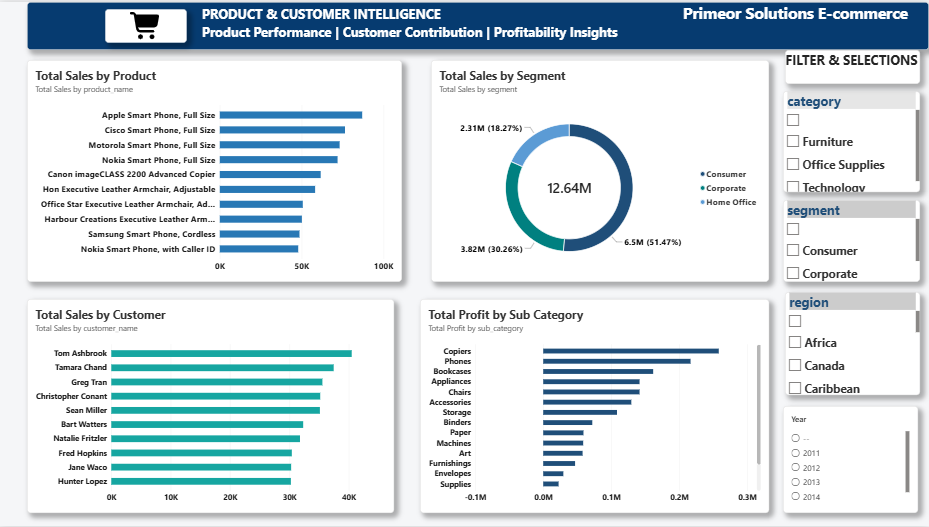

The page's visual inventory and layout, read from the dashboard file:
{"tool":"powerbi","page":{"name":"Product and Customer Insights","canvas":[1920,1080],"ordinal":2},"visuals":[{"type":"clusteredBarChart","title":"Total Sales by Product","fields":{"Category":["Cleaned_Ecommerce_Dataset.product_name"],"Y":["Cleaned_Ecommerce_Dataset.Total Sales"]},"box":[57.8,119.7,774.2,458.3],"z":0},{"type":"clusteredBarChart","title":"Total Sales by Customer","fields":{"Category":["Cleaned_Ecommerce_Dataset.customer_name"],"Y":["Cleaned_Ecommerce_Dataset.Total Sales"]},"box":[57.8,613.2,757.7,441.8],"z":1000},{"type":"clusteredBarChart","title":"Total Profit by Sub Category","fields":{"Category":["Cleaned_Ecommerce_Dataset.sub_category"],"Y":["Cleaned_Ecommerce_Dataset.Total Profit"]},"box":[869.2,613.2,720.5,441.8],"z":2000},{"type":"donutChart","title":"Total Sales by Segment","fields":{"Category":["Cleaned_Ecommerce_Dataset.segment"],"Y":["Cleaned_Ecommerce_Dataset.Total Sales"]},"box":[891.9,119.7,697.8,458.3],"z":3000},{"type":"slicer","fields":{"Values":["Cleaned_Ecommerce_Dataset.category"]},"box":[1618.6,183.7,282.8,208.5],"z":4000},{"type":"slicer","fields":{"Values":["Cleaned_Ecommerce_Dataset.region"]},"box":[1622.7,598.7,278.7,212.6],"z":5000},{"type":"listSlicer","fields":{"Values":["Cleaned_Ecommerce_Dataset.ship_date.Variation.Date Hierarchy.Year"]},"box":[1618.6,834.1,278.7,220.9],"z":6000},{"type":"slicer","fields":{"Values":["Cleaned_Ecommerce_Dataset.segment"]},"box":[1618.6,408.8,282.8,169.3],"z":7000},{"type":"textbox","box":[57.8,0,1862.2,99.1],"z":7001},{"type":"textbox","box":[1622.7,99.1,278.7,70.2],"z":7002},{"type":"image","box":[218.8,14.5,169.3,70.2],"z":7003}]}

Visuals, with their boxes in screenshot pixels (x1, y1, x2, y2), scaled from the page's 1920x1080 canvas onto the 929x527 screenshot:
"Total Sales by Product" clusteredBarChart: detection(28, 58, 403, 282)
"Total Sales by Customer" clusteredBarChart: detection(28, 299, 395, 515)
"Total Profit by Sub Category" clusteredBarChart: detection(421, 299, 769, 515)
"Total Sales by Segment" donutChart: detection(432, 58, 769, 282)
slicer - Cleaned_Ecommerce_Dataset.category: detection(783, 90, 920, 191)
slicer - Cleaned_Ecommerce_Dataset.region: detection(785, 292, 920, 396)
listSlicer - Cleaned_Ecommerce_Dataset.ship_date.Variation.Date Hierarchy.Year: detection(783, 407, 918, 515)
slicer - Cleaned_Ecommerce_Dataset.segment: detection(783, 199, 920, 282)
textbox: detection(28, 0, 928, 48)
textbox: detection(785, 48, 920, 83)
image: detection(106, 7, 188, 41)
